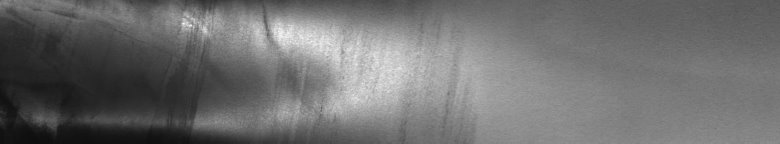ke: (36, 4, 345, 136)
